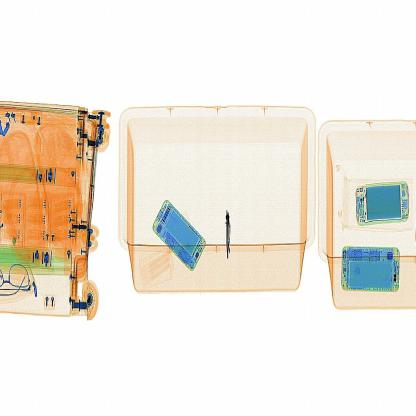knife: (215, 204, 246, 261)
